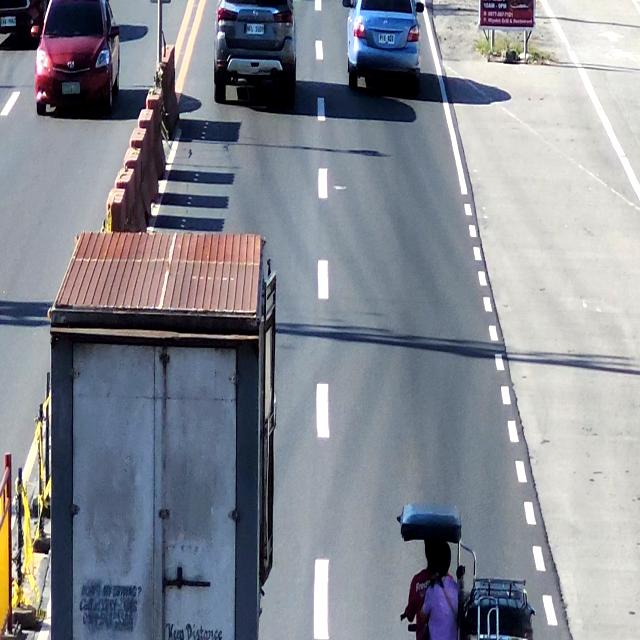Car: (210, 0, 294, 103), (345, 0, 420, 91)
License-Plate: (244, 20, 266, 36), (378, 29, 397, 46)
Tricycle: (391, 500, 535, 640)
Truck: (48, 231, 274, 640)
